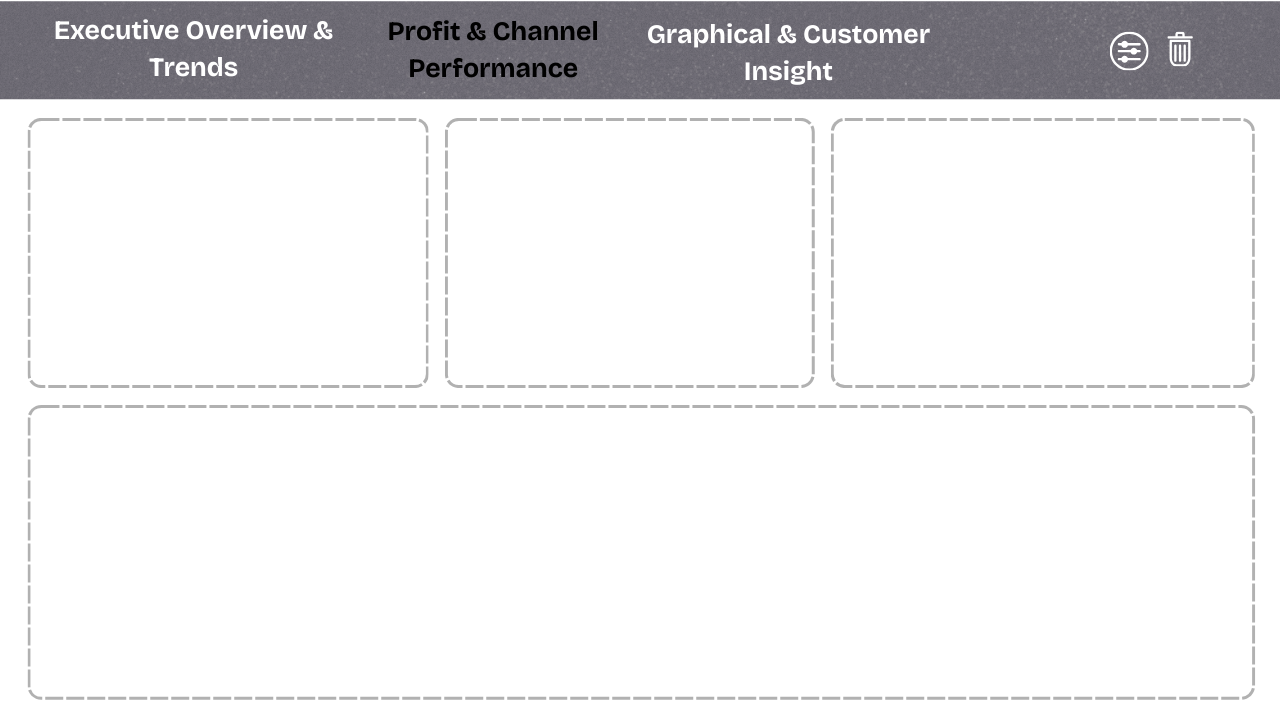

The dashboard page shown, as its layout file describes it:
{"tool":"powerbi","page":{"name":"Product_Performance","canvas":[1280,720],"ordinal":2},"visuals":[{"type":"barChart","fields":{"Category":["Sales_data(EDA Exported).product_name"],"Y":["Sum(Sales_data(EDA Exported).unit_price)"]},"box":[32.6,124.3,390.9,252.1],"z":0},{"type":"clusteredBarChart","fields":{"Category":["Sales_data(EDA Exported).product_name"],"Y":["Sum(Sales_data(EDA Exported).profit_margin_pct)"]},"box":[454.8,124.3,352.3,252.1],"z":1000},{"type":"scatterChart","fields":{"X":["Customer Summary.Total Revenue"],"Y":["Customer Summary.Average Profit Margin %"],"Size":["Customer Summary.Order Count"]},"box":[833.7,125.5,416.2,252.1],"z":2000},{"type":"donutChart","fields":{"Category":["Sales_data(EDA Exported).channel"],"Y":["Customer Summary.Total Revenue"]},"box":[32.6,412.6,422.3,272.7],"z":3000},{"type":"donutChart","fields":{"Category":["Sales_data(EDA Exported).channel"],"Y":["Customer Summary.Total Profit"]},"box":[411.4,412.6,422.3,272.7],"z":4000},{"type":"donutChart","fields":{"Category":["Sales_data(EDA Exported).channel"],"Y":["Customer Summary.Profit Margin %"]},"box":[821.6,415,422.3,272.7],"z":5000},{"type":"actionButton","box":[49.5,12.1,296.8,79.6],"z":6000},{"type":"actionButton","box":[639.4,12.1,296.8,79.6],"z":7000}]}

Visuals, with their boxes on the page's 1280x720 design canvas (x1, y1, x2, y2). These are canvas units, not pixel positions in the 1280x720 screenshot, which may show the page scaled, cropped or inside an application window:
barChart - Sales_data(EDA Exported).product_name x Sum(Sales_data(EDA Exported).unit_price): 33/124/424/376
clusteredBarChart - Sales_data(EDA Exported).product_name x Sum(Sales_data(EDA Exported).profit_margin_pct): 455/124/807/376
scatterChart - Customer Summary.Total Revenue x Customer Summary.Average Profit Margin %: 834/126/1250/378
donutChart - Sales_data(EDA Exported).channel x Customer Summary.Total Revenue: 33/413/455/685
donutChart - Sales_data(EDA Exported).channel x Customer Summary.Total Profit: 411/413/834/685
donutChart - Sales_data(EDA Exported).channel x Customer Summary.Profit Margin %: 822/415/1244/688
actionButton: 50/12/346/92
actionButton: 639/12/936/92
